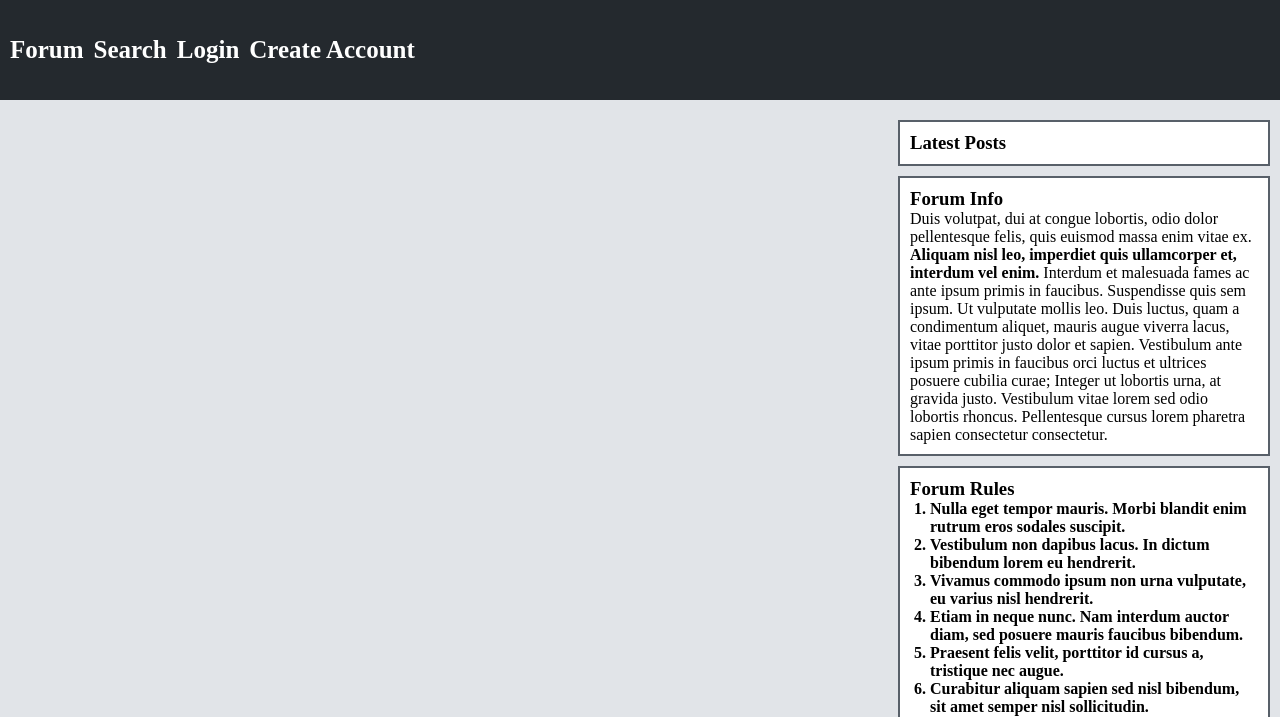
Test: Forum › login form can be opened
Click the link "Login" at (209, 50), box top-left (177, 36), bottom-right (240, 63)
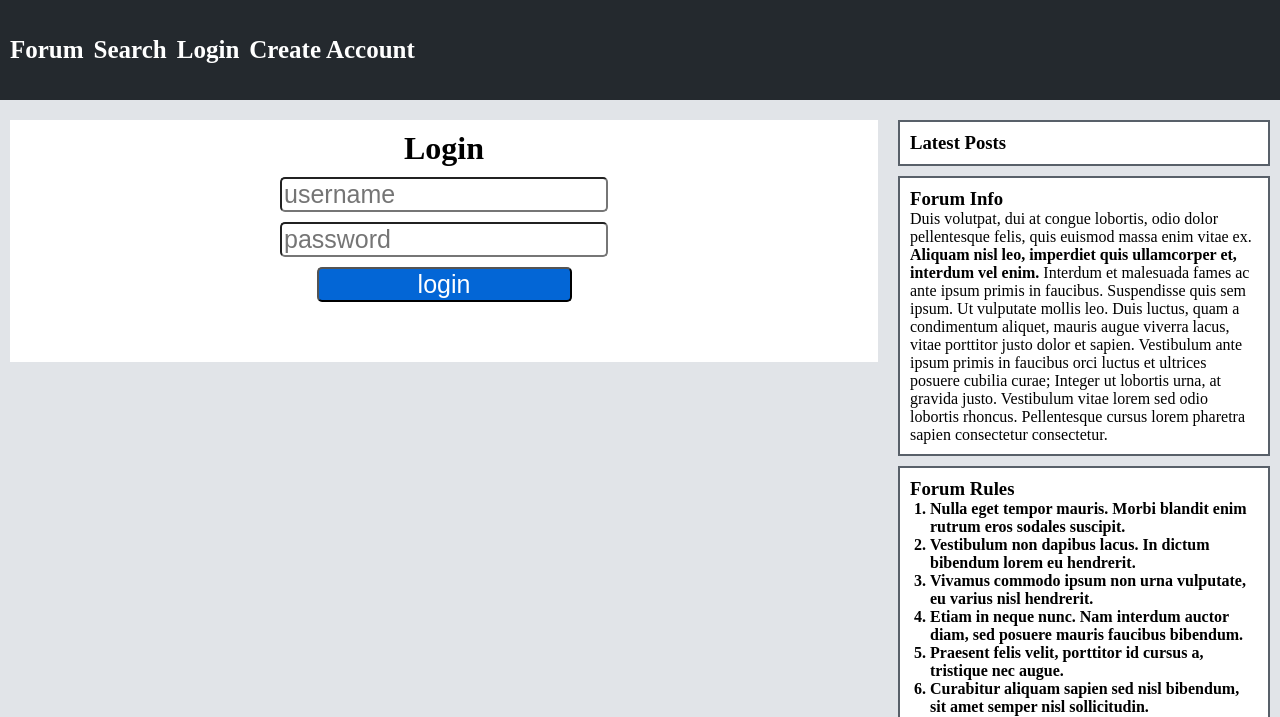
Now the field with placeholder "username" is shown, box top-left (280, 177), bottom-right (608, 212)
Now the password field with placeholder "password" is shown, box top-left (280, 222), bottom-right (608, 257)
Now the button "login" is shown, box top-left (316, 267), bottom-right (572, 302)
